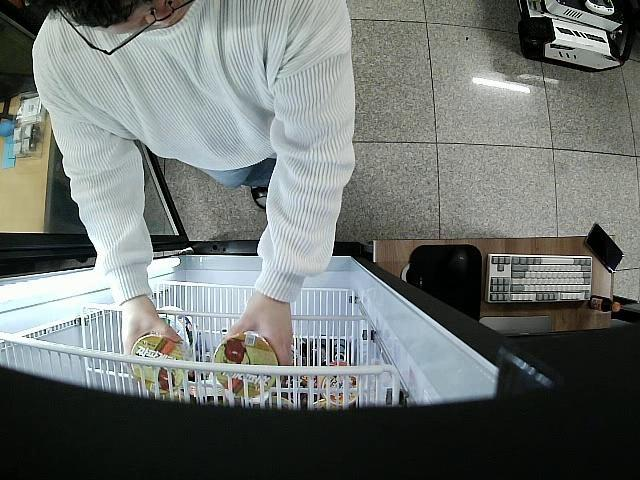04_chapagetti_S: (212, 331, 278, 398), (128, 334, 190, 394)
